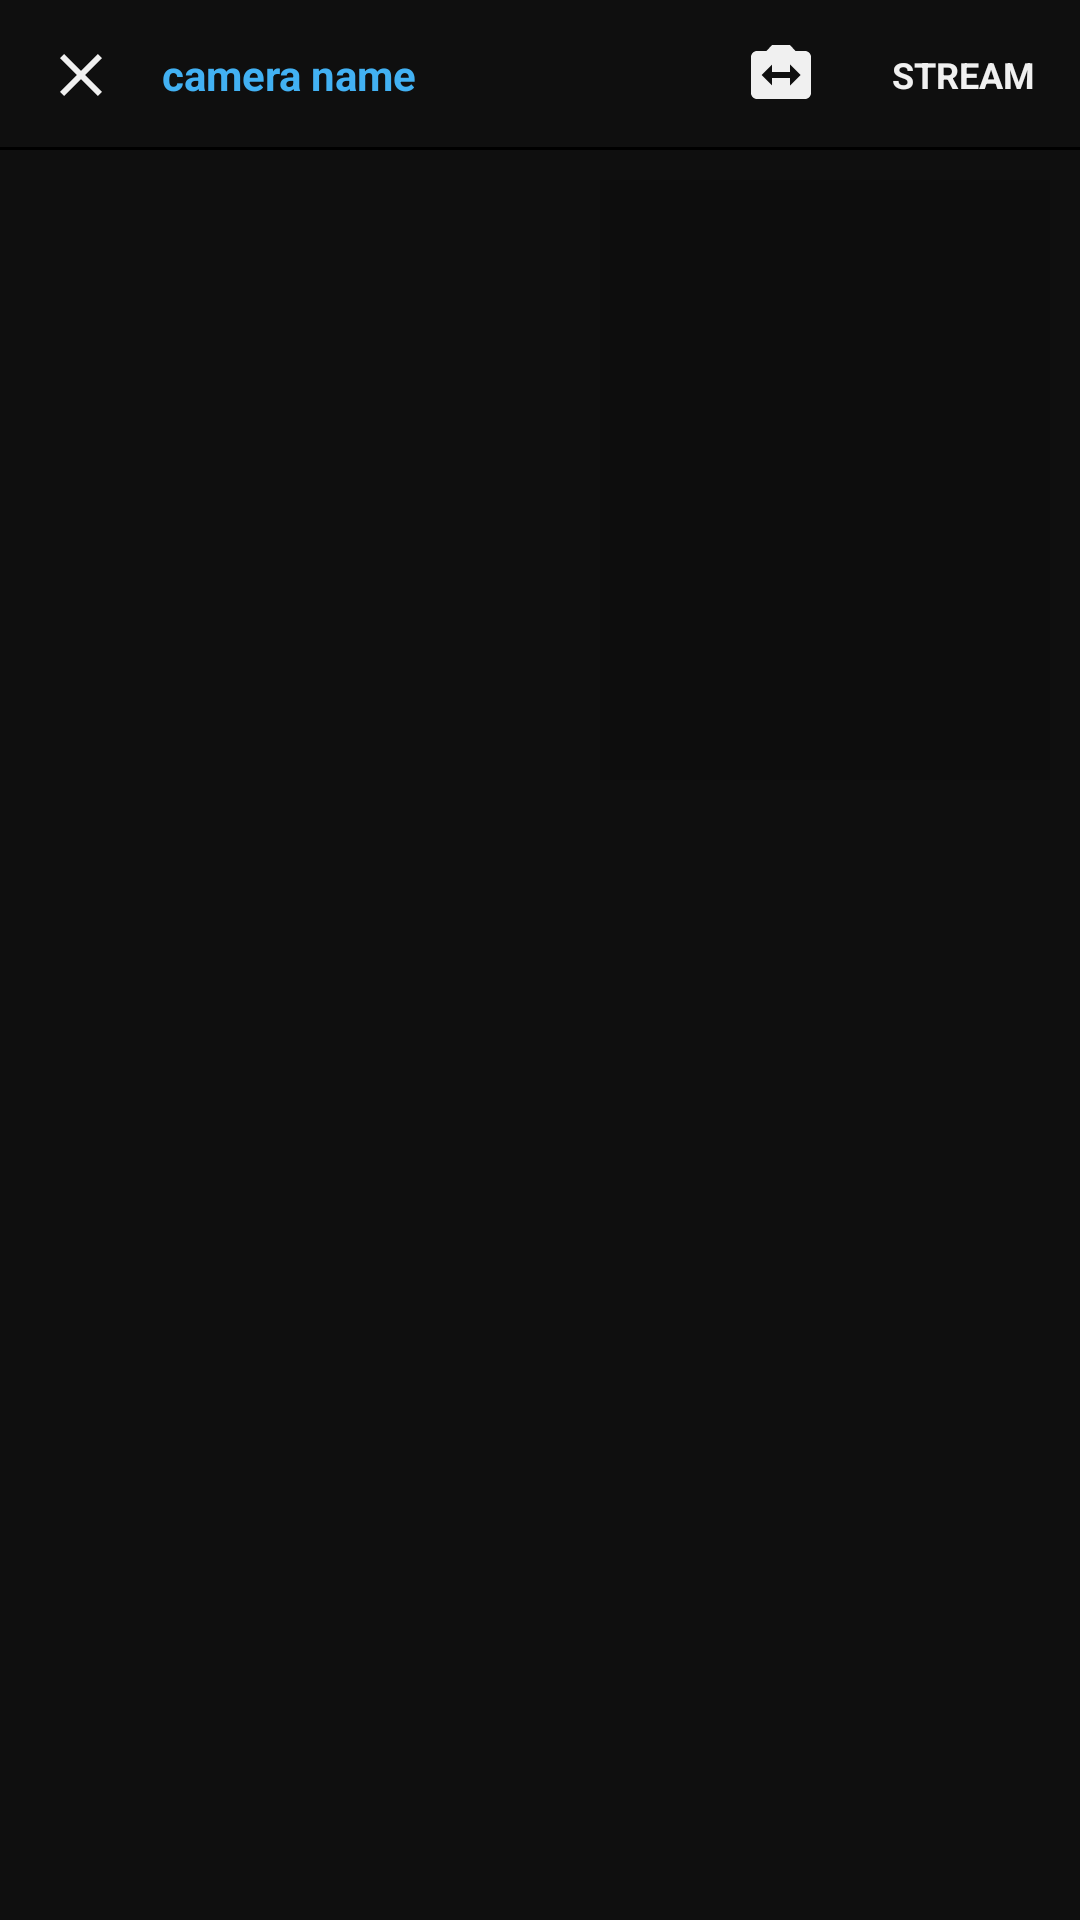

Point at icon controls on the screen. Image size 1080px×1920px, points as (x=x, y=y).
switch camera: (x=781, y=72)
